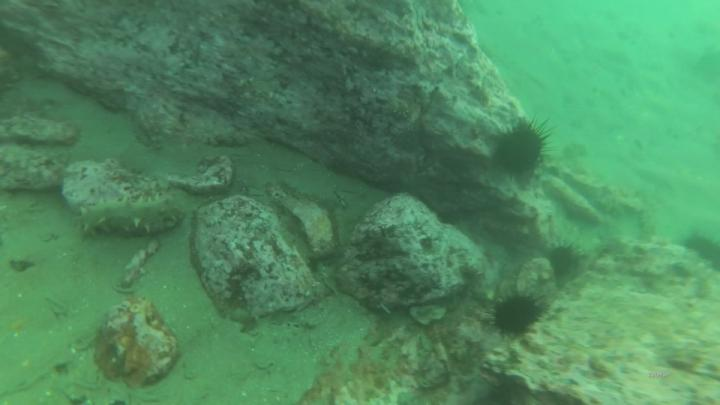echinus: (488, 114, 557, 185), (487, 286, 550, 338), (476, 371, 529, 405), (547, 240, 581, 278)
holothurian: (76, 192, 188, 241)
